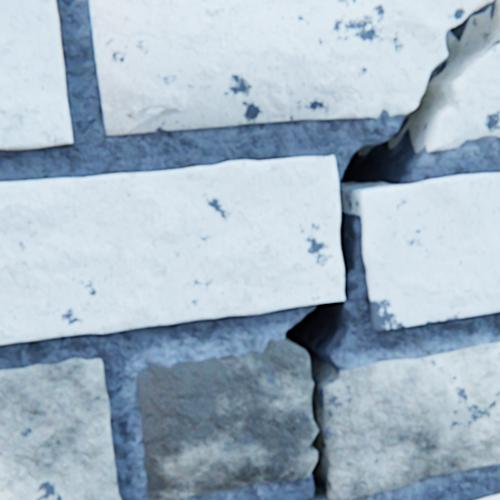brick: (0, 156, 343, 344), (358, 174, 499, 331), (0, 358, 121, 499), (0, 0, 73, 150), (476, 493, 499, 499), (313, 497, 329, 499), (352, 497, 363, 499)
broken_brick: (90, 0, 492, 135), (137, 339, 317, 499), (322, 342, 499, 499), (426, 39, 499, 152), (498, 2, 499, 31)
crack: (285, 0, 499, 499)
